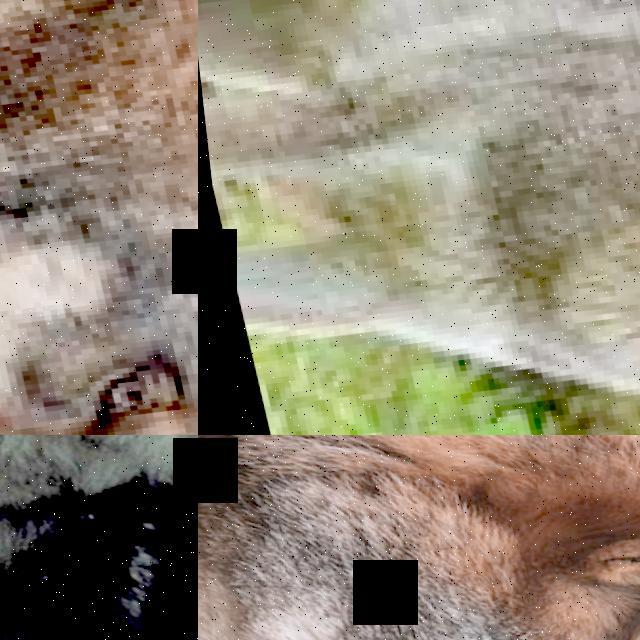wolf: (198, 0, 640, 435), (198, 435, 640, 640), (0, 0, 198, 435), (0, 435, 198, 633)
